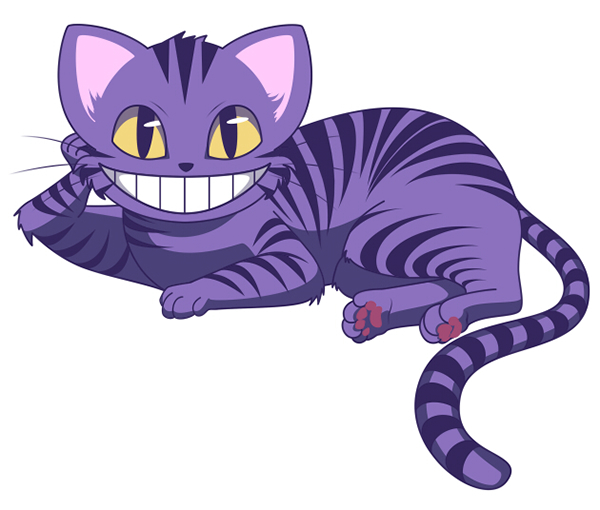cat: (2, 11, 597, 502)
